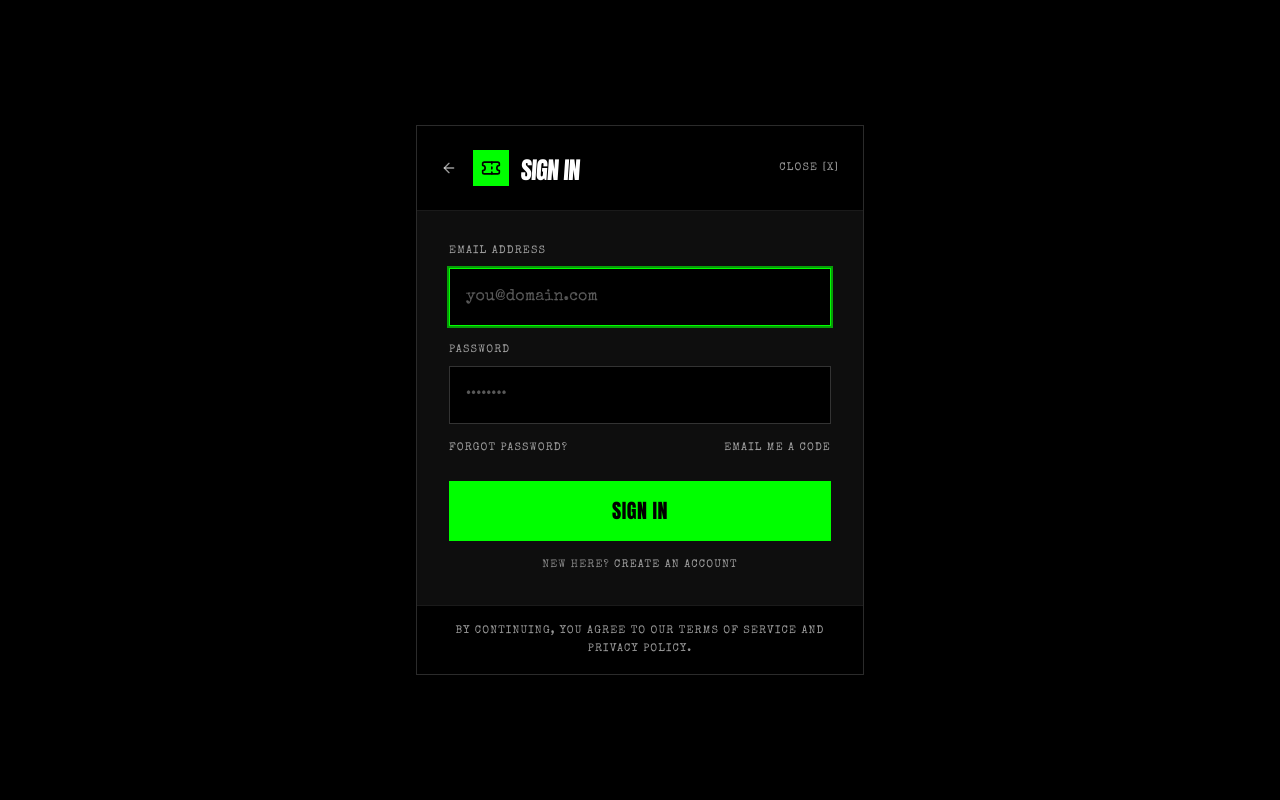
Test case: AuthModal: sign in › shows the wait on rate limits
Type "fan@example.com" into the field labelled "Email Address" at (640,297), box top-left (449, 268), bottom-right (831, 326)
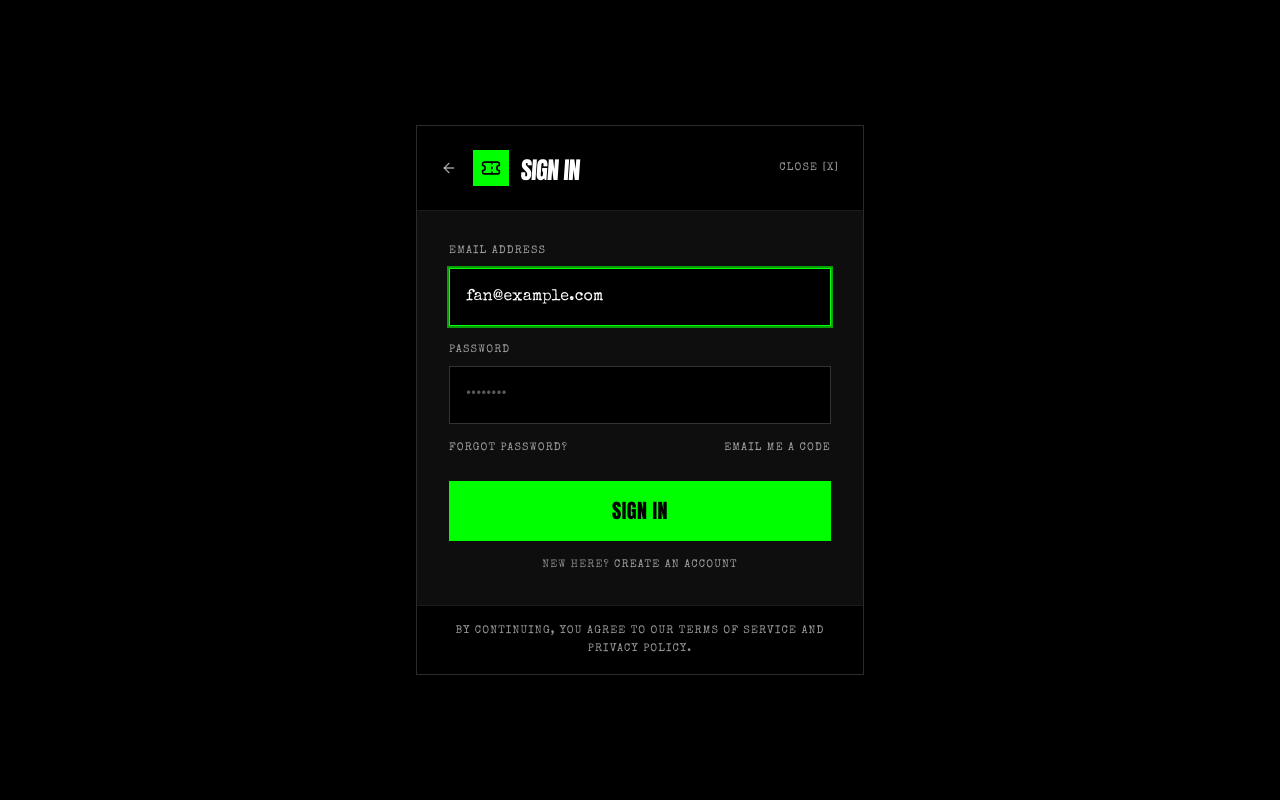
Type "whatever1" into the password field labelled "Password" at (640,395), box top-left (449, 366), bottom-right (831, 424)
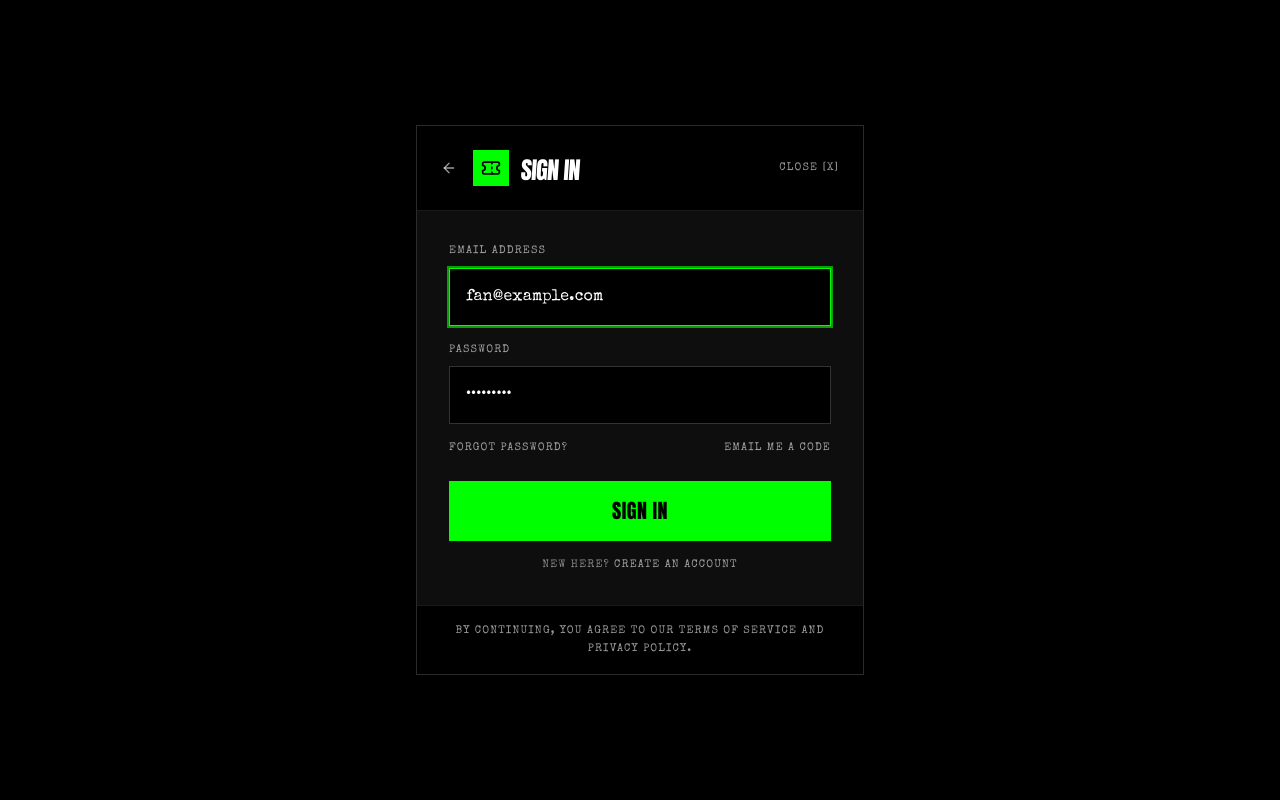
Click the button "Sign In" at (640,511), box top-left (449, 481), bottom-right (831, 541)
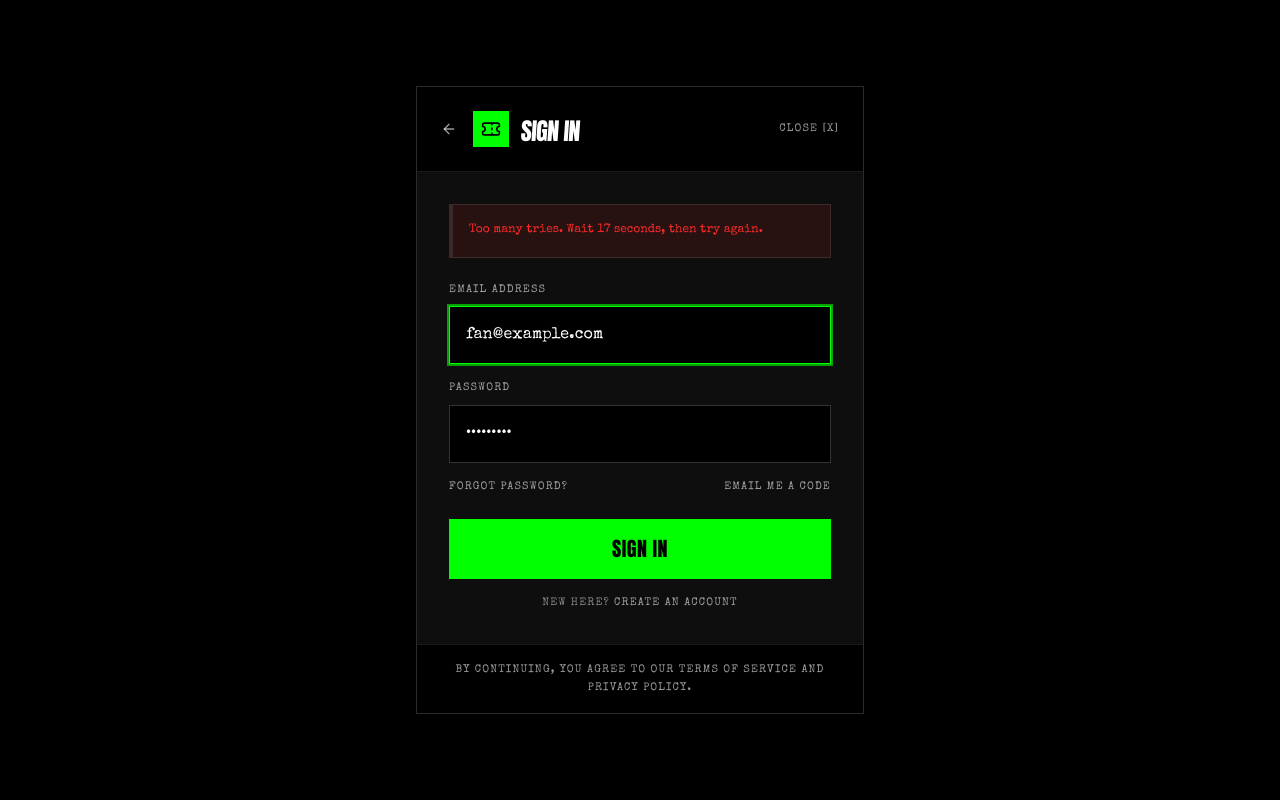
Expected: the message shows "Wait 17 seconds", top-left (469, 224), bottom-right (763, 236)
